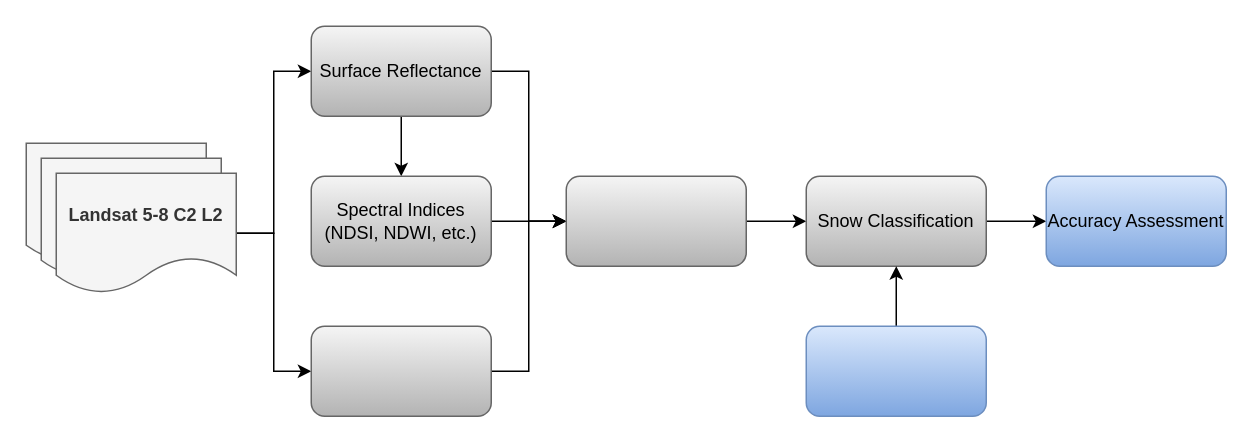
This 1253x443 diagram has some shape labels left out. The box of each missing label's shape, as (x1, y1, x2, y2) in pixels:
QA Pixel Band: (310, 325, 491, 416)
Validation Data: (805, 325, 986, 416)
Water/ Cloud/ Shadow Mask: (565, 175, 746, 266)
